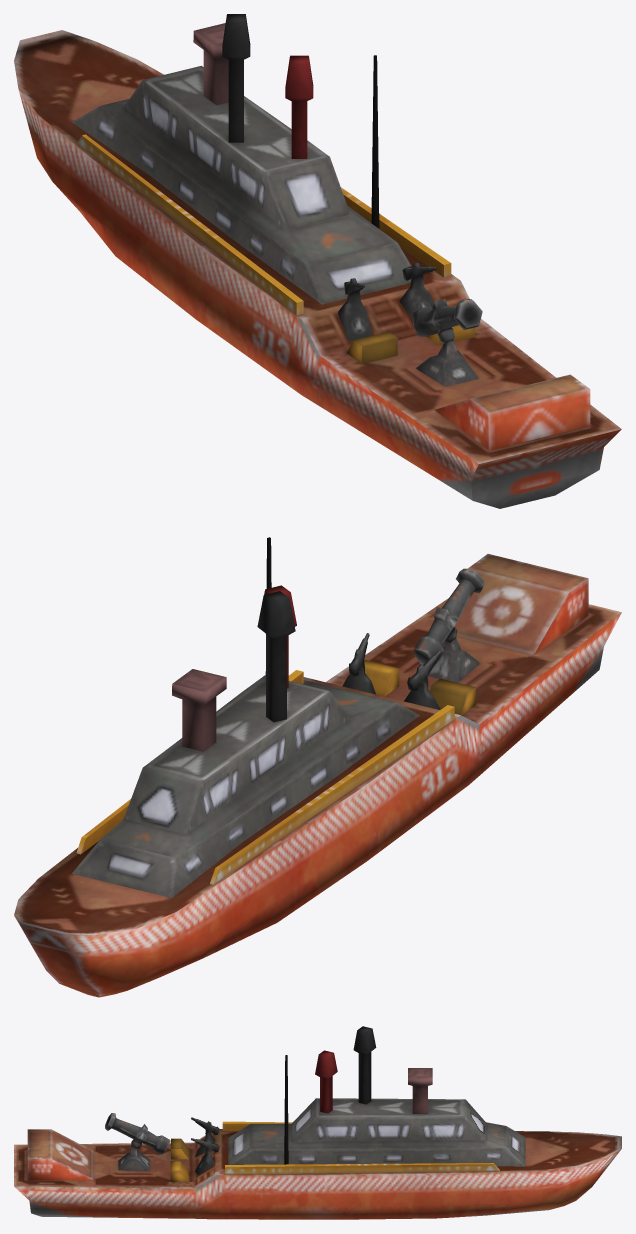
File: threedeck_lod.fbx
3 renders of one model, top to bottom at view 1: azimuth 30°, elevation 25°; view 2: azimuth 150°, elevation 25°; view 3: azimuth 270°, elevation 25°, orthographic. The views are drawn at different scales.
Visible parts, largest first — view 1: threedeck_LOD0, threedeck_gun_LOD0; view 2: threedeck_LOD0, threedeck_gun_LOD0; view 3: threedeck_LOD0, threedeck_gun_LOD0.
Boxes of the visible parts, x1=… form: threedeck_LOD0: x1=14, y1=14, x2=621, y2=508; threedeck_gun_LOD0: x1=412, y1=298, x2=482, y2=343; threedeck_LOD0: x1=14, y1=537, x2=621, y2=997; threedeck_gun_LOD0: x1=414, y1=568, x2=484, y2=666; threedeck_LOD0: x1=14, y1=1026, x2=621, y2=1219; threedeck_gun_LOD0: x1=105, y1=1113, x2=170, y2=1154.
Size of what is drawn, in the model's own units: 23.78 by 38.58 by 122.
